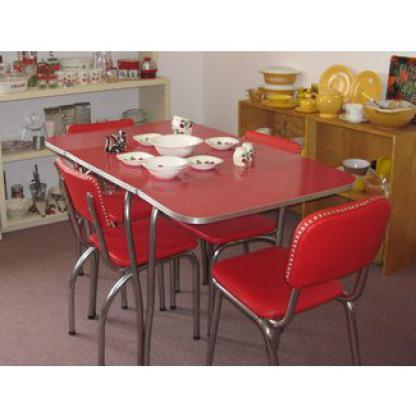chair: (206, 191, 390, 364), (48, 157, 199, 365), (180, 134, 301, 242), (69, 119, 160, 221)
table: (39, 120, 356, 365)
